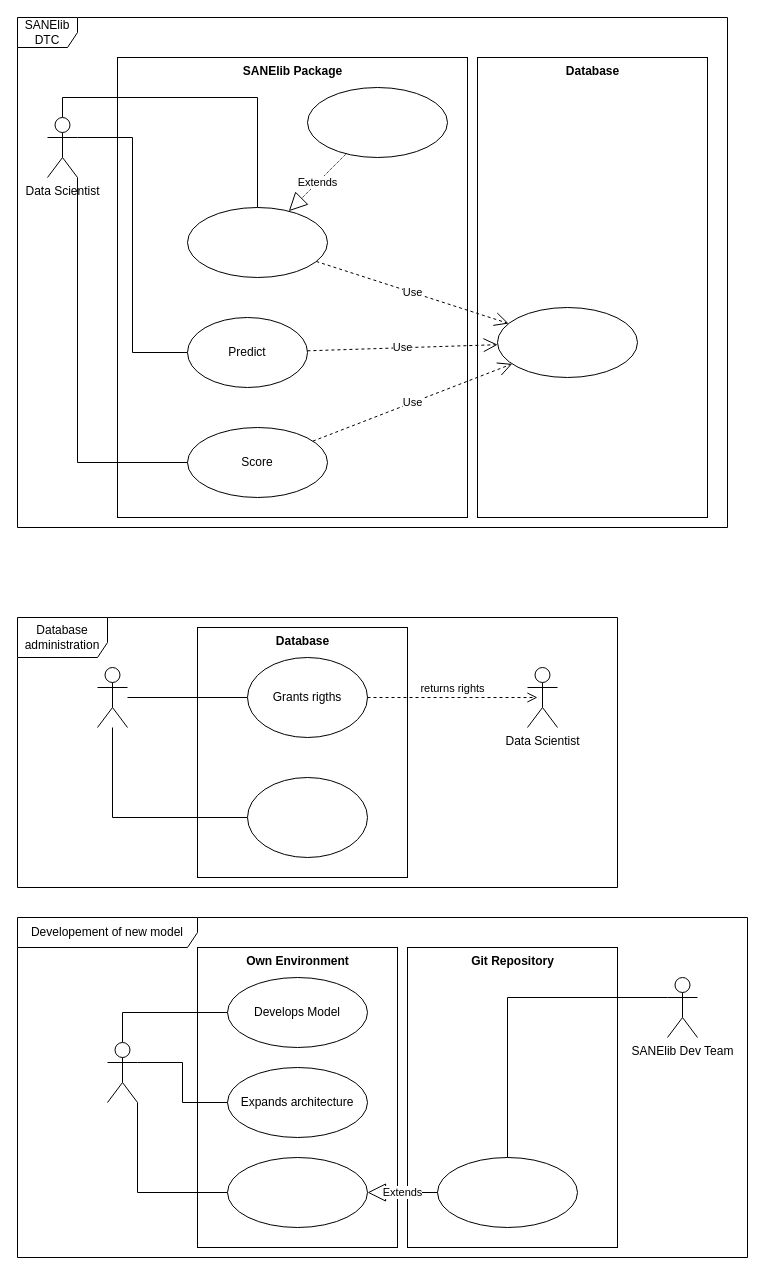
This 765x1275 diagram has some shape labels left out. The shapes that lost their labels are listed below. From the top down, each one's centre as x and y in pixels, then its label:
point (377, 122): Train/Test Split
point (257, 242): Estimate
point (567, 342): Login
point (112, 697): Database Administrator
point (307, 817): Manages Database
point (122, 1072): Software Engineer
point (297, 1192): Pull requests
point (507, 1192): Grants requests
